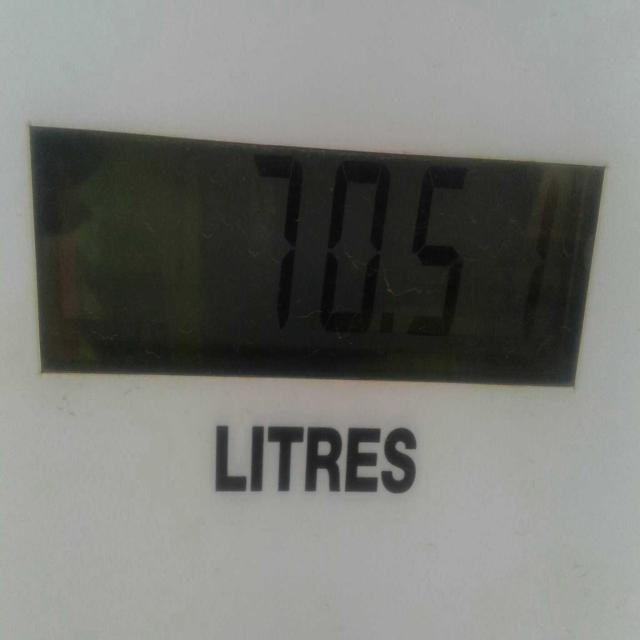.: (371, 301, 409, 350)
0: (313, 143, 390, 351)
5: (402, 144, 478, 357)
7: (250, 141, 304, 357)
